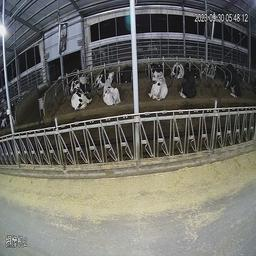cow: (66, 78, 94, 113), (102, 70, 123, 113), (146, 68, 169, 104), (181, 63, 199, 106), (225, 63, 241, 105), (119, 54, 134, 86), (202, 53, 216, 78), (93, 64, 105, 89), (172, 53, 182, 80)
